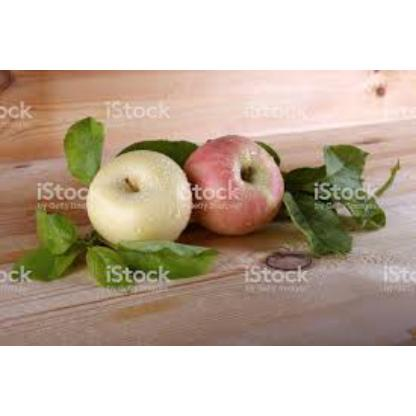apple: (182, 130, 296, 232), (85, 151, 187, 241)
